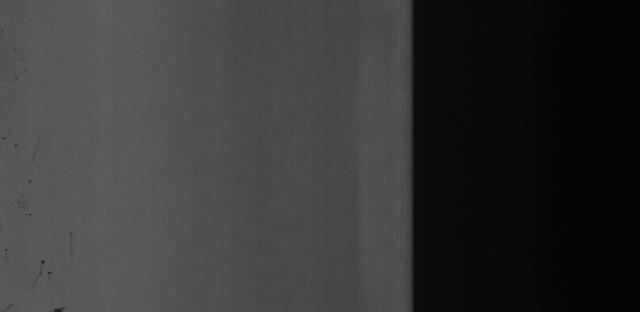inclusion: (12, 178, 39, 218), (32, 258, 60, 281)
